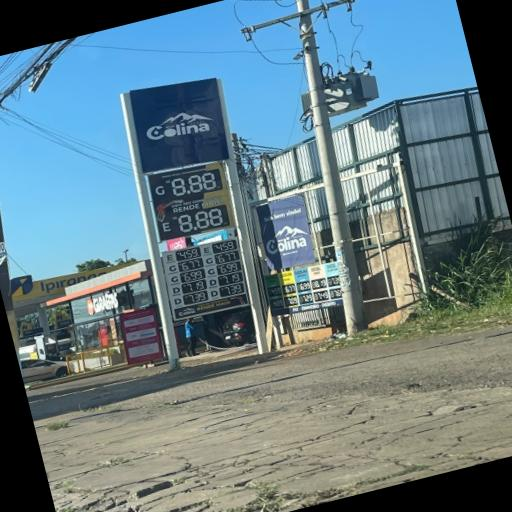ETANOL: (162, 251, 177, 265), (265, 273, 279, 284)
GASOLINA AD: (168, 274, 182, 287), (295, 268, 310, 280)
GASOLINA C: (278, 270, 295, 284), (165, 264, 180, 276)
S10: (172, 296, 184, 310)
S500: (170, 286, 182, 298)
placa: (159, 244, 212, 315)
preco: (176, 246, 198, 262), (179, 258, 202, 272), (182, 269, 204, 283), (186, 290, 207, 304), (184, 280, 206, 292), (296, 280, 312, 294), (282, 282, 296, 295), (268, 284, 282, 296)
